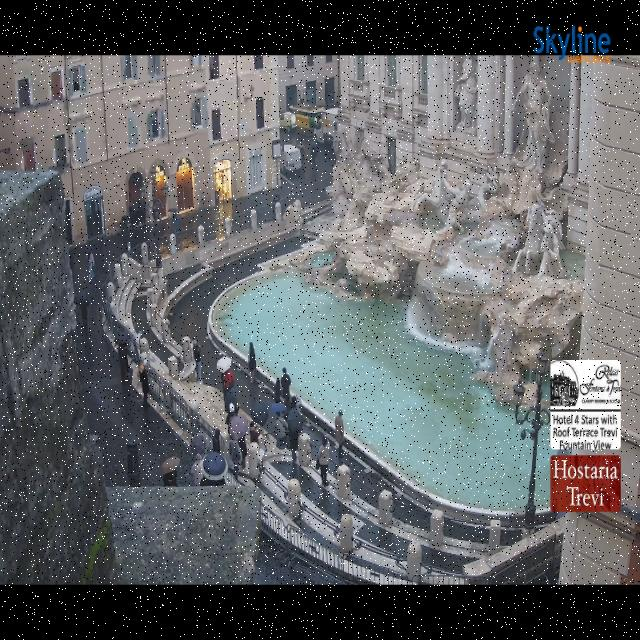person: (200, 452, 227, 485), (317, 436, 330, 487), (230, 433, 242, 479), (276, 412, 288, 449), (140, 364, 149, 408), (118, 343, 128, 382), (335, 410, 343, 457), (193, 340, 201, 382), (192, 455, 203, 485), (248, 343, 256, 383), (280, 368, 291, 396), (290, 429, 299, 463), (212, 429, 223, 454), (221, 369, 234, 390), (238, 438, 247, 468), (249, 422, 261, 444), (164, 470, 177, 487), (88, 251, 95, 282), (283, 393, 291, 418), (226, 404, 235, 425), (129, 205, 137, 228), (80, 304, 87, 330), (311, 144, 317, 168), (275, 379, 281, 402)
